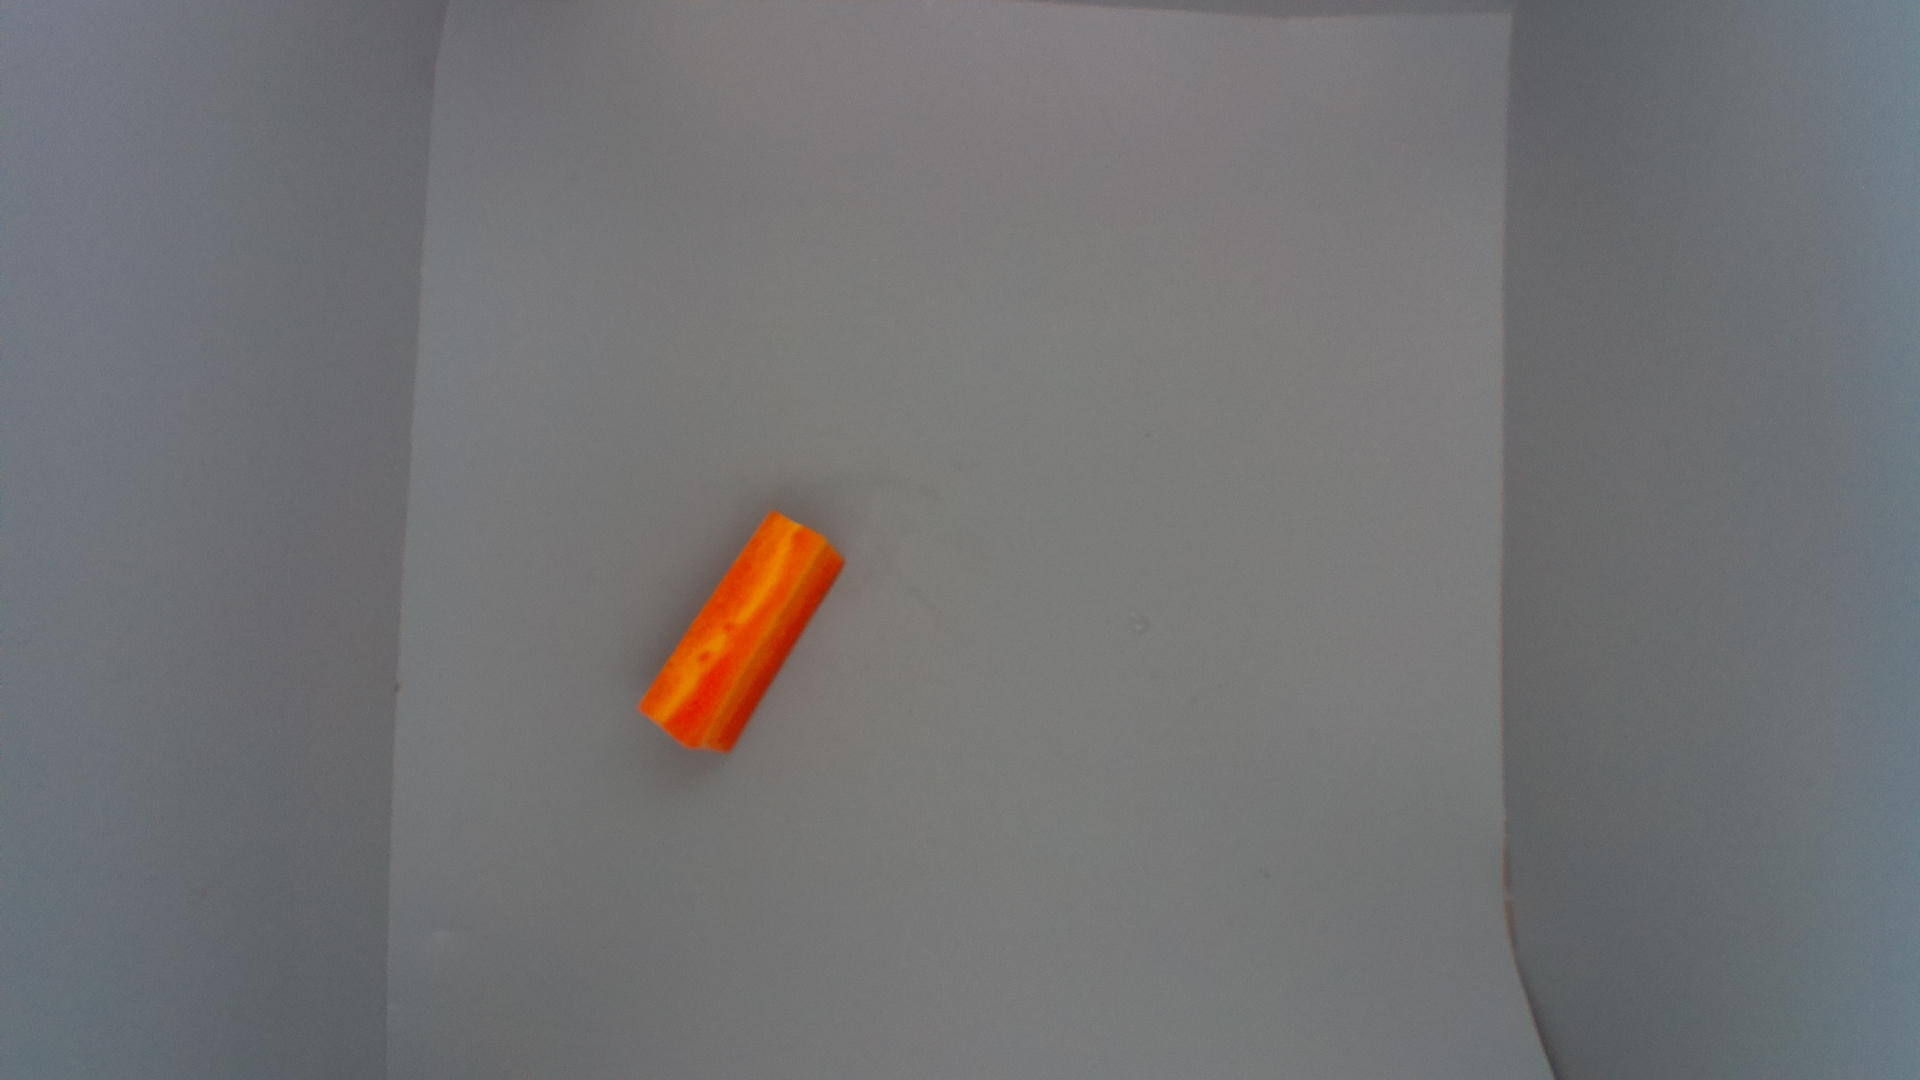carrot: (637, 506, 851, 764)
